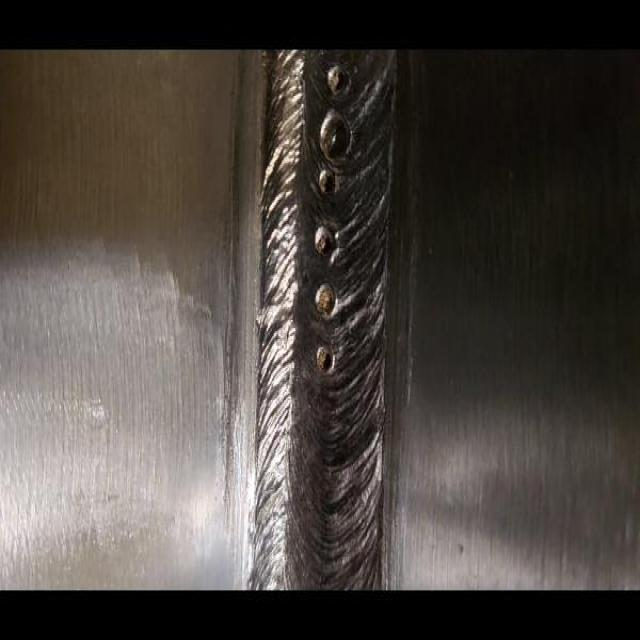Welding Line: (264, 56, 383, 594)
Workpiece: (3, 47, 637, 588)
porosity: (311, 56, 350, 374)
